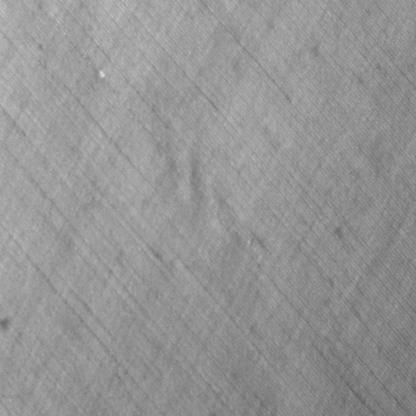hole: (98, 66, 106, 80)
